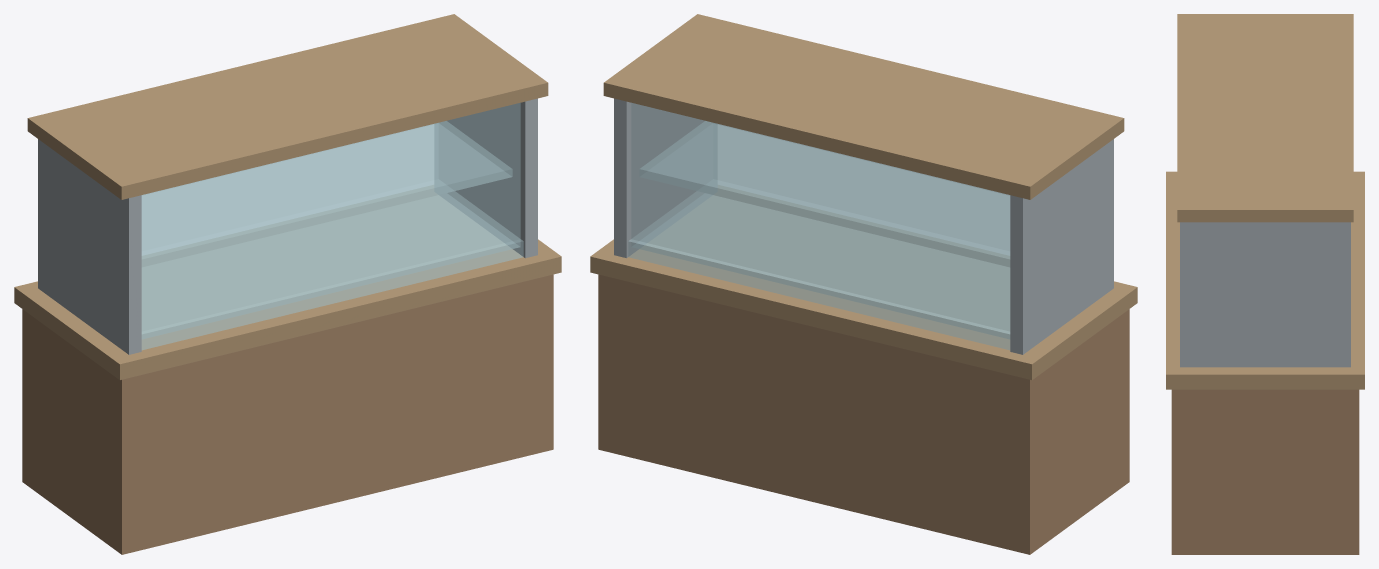
File: display_case.glb
3 views of the same model, side by side, from view 1: azimuth 30°, elevation 25°; view 2: azimuth 150°, elevation 25°; view 3: azimuth 270°, elevation 25° (orthographic). The views are drawn at different scales.
Visible parts, largest first — view 1: display_case; view 2: display_case; view 3: display_case.
Part boxes in pixels (bbox=[...]): display_case: bbox=[14, 14, 561, 554]; display_case: bbox=[590, 14, 1137, 554]; display_case: bbox=[1166, 14, 1364, 554].
Bounding box in the file's own units: 1.74 × 1.37 × 0.72.
